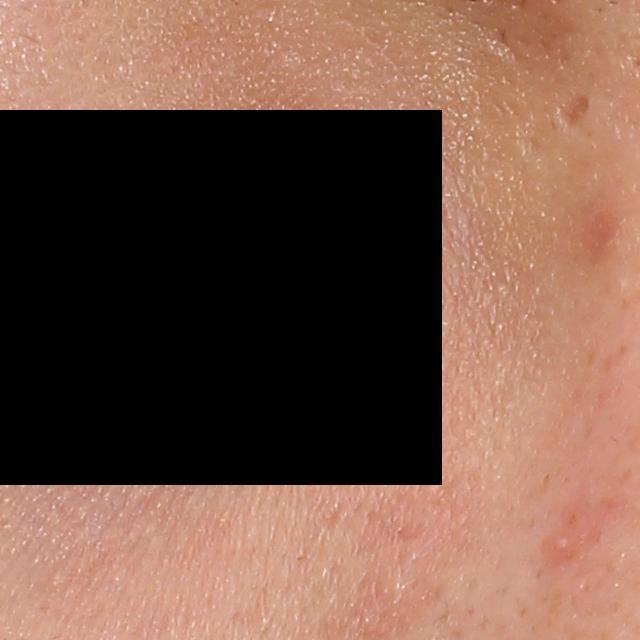atrophic_scar: (552, 92, 591, 134)
